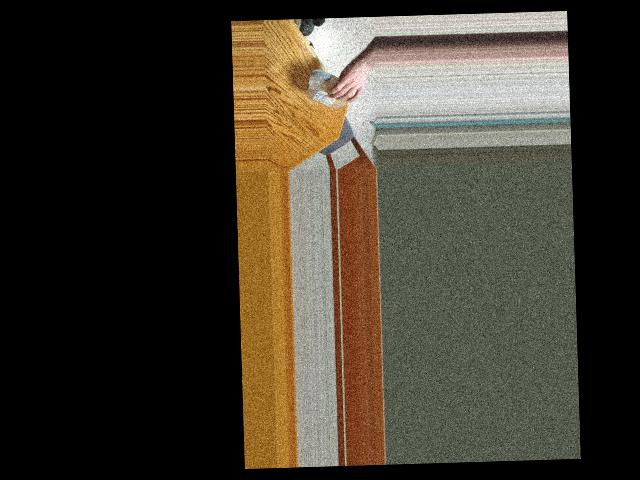cheese: (308, 72, 350, 103)
